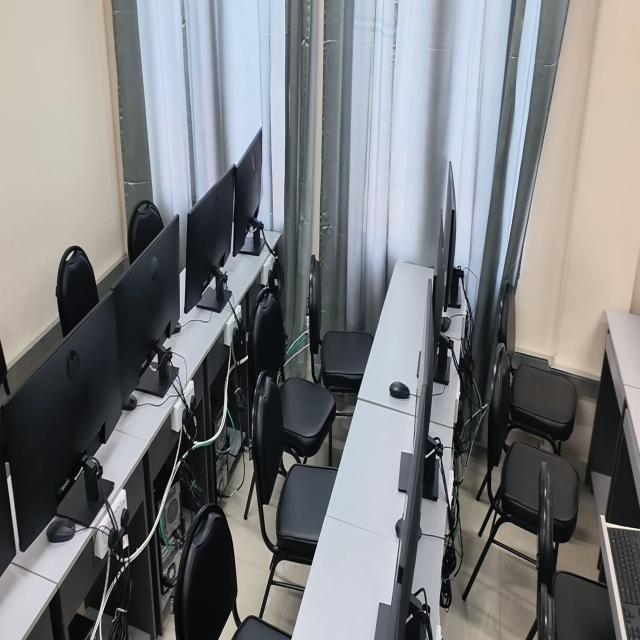Chair: (463, 343, 579, 599), (252, 371, 337, 619), (173, 504, 291, 639), (251, 287, 336, 462), (536, 462, 615, 639), (497, 283, 577, 454), (307, 254, 373, 393), (56, 245, 99, 337), (128, 200, 163, 263)
Cpu: (157, 481, 186, 586), (214, 409, 230, 495)
Keyboard: (608, 527, 640, 639)
Monitor: (0, 299, 122, 551), (113, 216, 180, 399), (397, 379, 433, 599), (184, 165, 236, 313), (233, 127, 263, 256), (417, 271, 435, 420), (433, 210, 446, 349), (444, 162, 456, 310), (387, 581, 401, 639)
Mouse: (46, 516, 75, 543), (389, 381, 410, 399), (122, 394, 137, 410), (173, 321, 181, 334)
